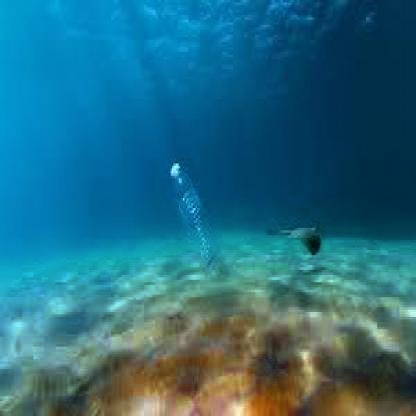pbottle: (162, 156, 220, 272)
